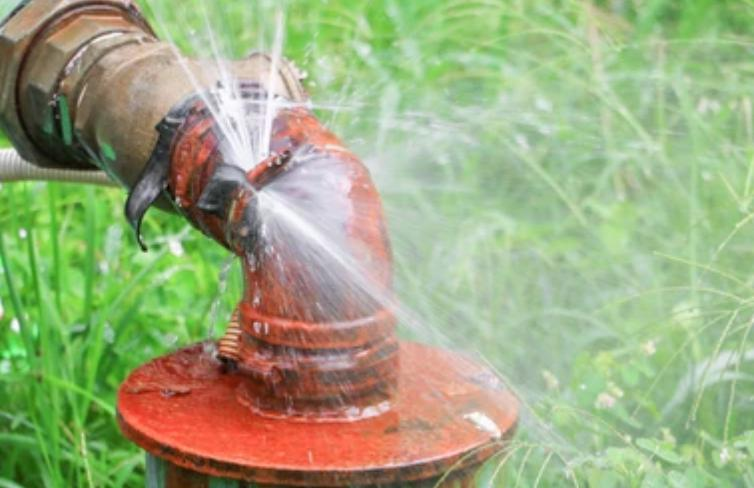pipe burst: (250, 93, 711, 446), (146, 0, 289, 172)
